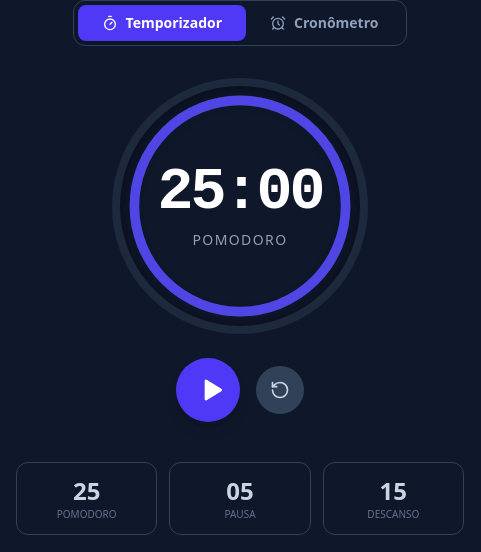
Test case: TimerTool (totalDuration is stored in seconds) › 5-minute preset displays 05:00
This screenshot has width=481, height=552.
Click the text "Pausa" at (240,514), box [224, 507, 256, 522]
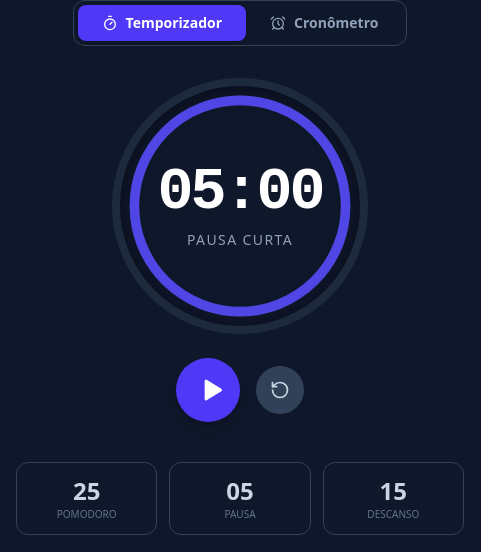
Expected: the text "05:00" is shown, [158, 162, 322, 222]
